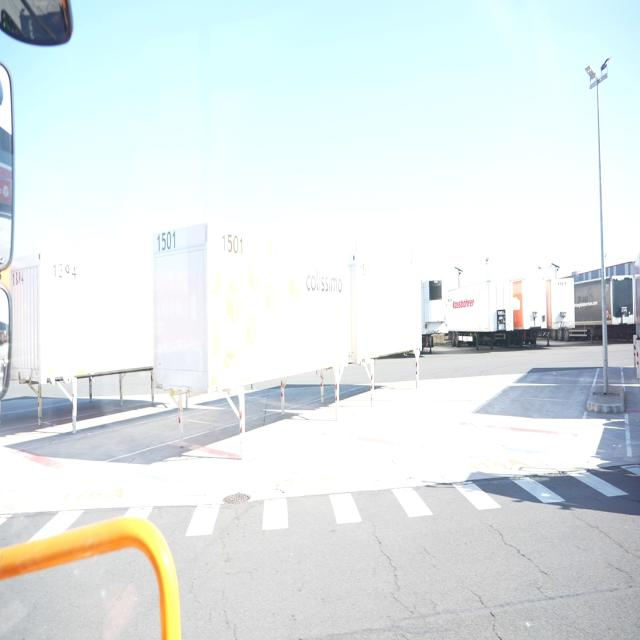Code: (216, 227, 250, 262), (155, 227, 178, 257)
